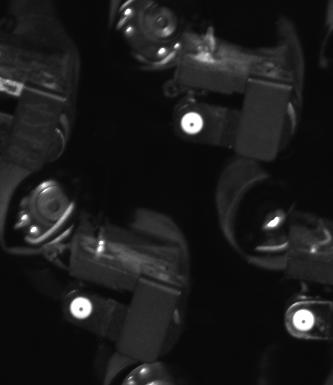fiber: (173, 105, 211, 144), (65, 291, 99, 324), (287, 304, 318, 337)
